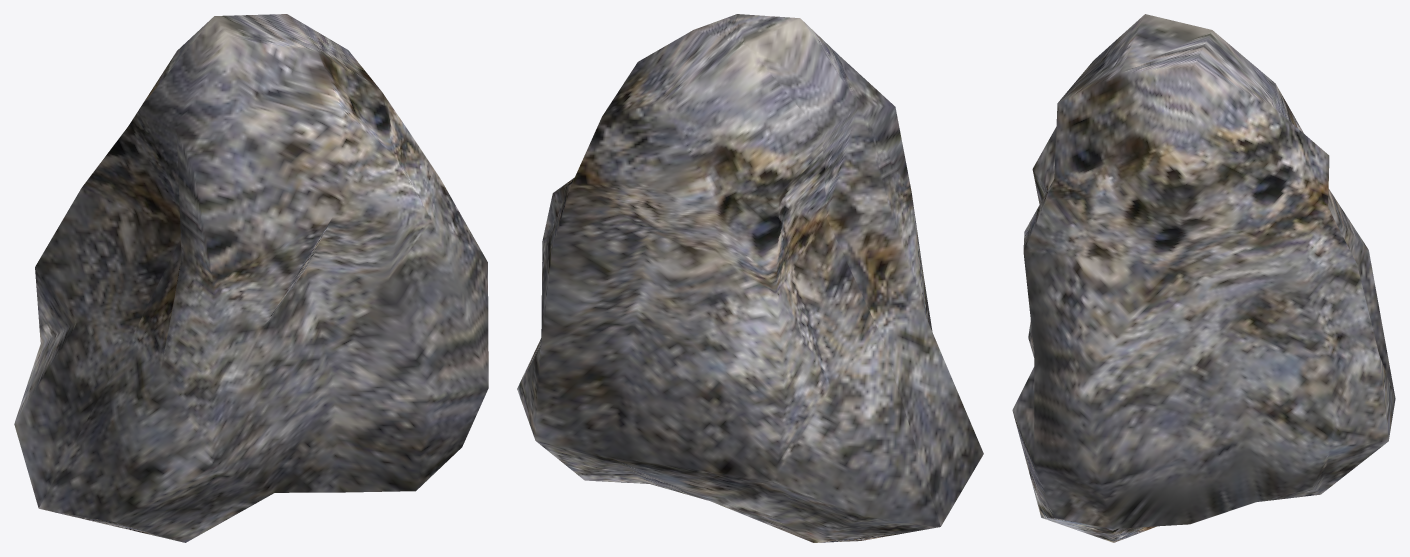
File: meteorit_04.fbx
The picture shows the model from 3 angles, left to right: view 1: azimuth 30°, elevation 25°; view 2: azimuth 150°, elevation 25°; view 3: azimuth 270°, elevation 25°; orthographic projection.
Visible parts, largest first — view 1: pCube1; view 2: pCube1; view 3: pCube1.
Boxes of the visible parts, x1,y1,x2,y2 form: pCube1: (14, 14, 488, 542); pCube1: (517, 14, 983, 542); pCube1: (1012, 14, 1395, 542).
Bounding box in the file's own units: 192 × 225 × 163.
